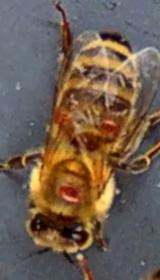varroa_mite: (93, 104, 131, 146), (53, 178, 89, 209), (49, 104, 76, 135)
